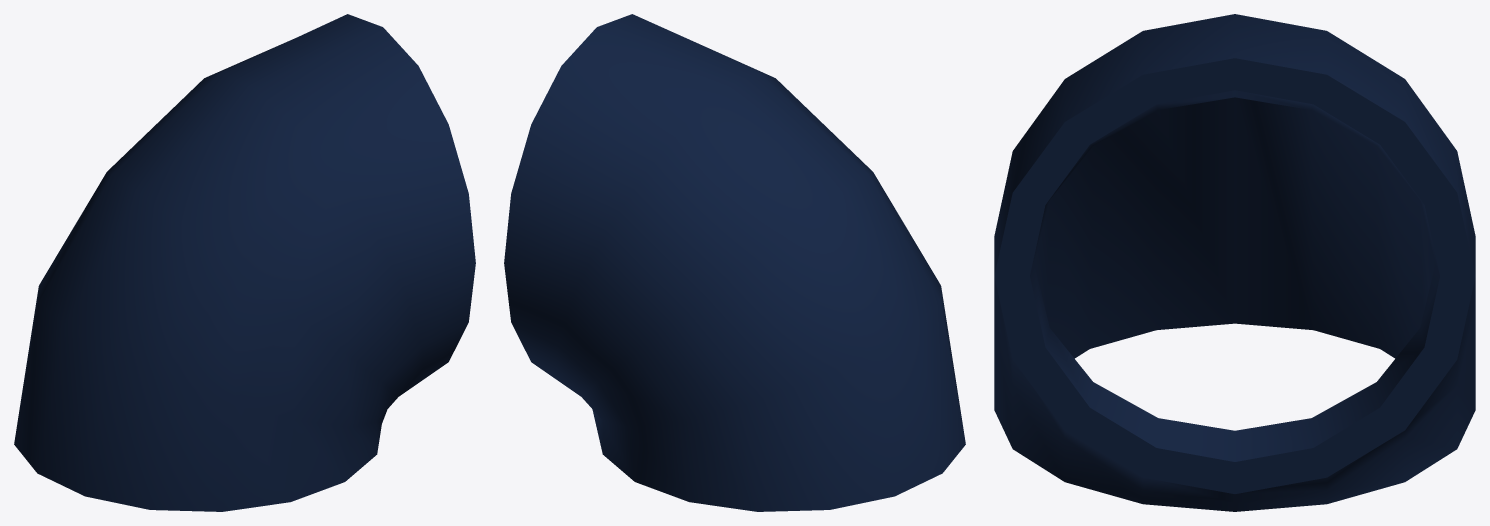
The model's file is Pipe_90.obj.
3 views of the same model, side by side, from view 1: azimuth 30°, elevation 25°; view 2: azimuth 150°, elevation 25°; view 3: azimuth 270°, elevation 25° (orthographic). The views are drawn at different scales.
Parts seen in each view (by area): view 1: Pipe_90_Cylinder.040; view 2: Pipe_90_Cylinder.040; view 3: Pipe_90_Cylinder.040.
Boxes of the visible parts, x1,y1,x2,y2 form: Pipe_90_Cylinder.040: (14, 14, 475, 511); Pipe_90_Cylinder.040: (504, 14, 965, 511); Pipe_90_Cylinder.040: (994, 14, 1475, 511).
Bounding box in the file's own units: 1.87 × 1.87 × 1.74.
